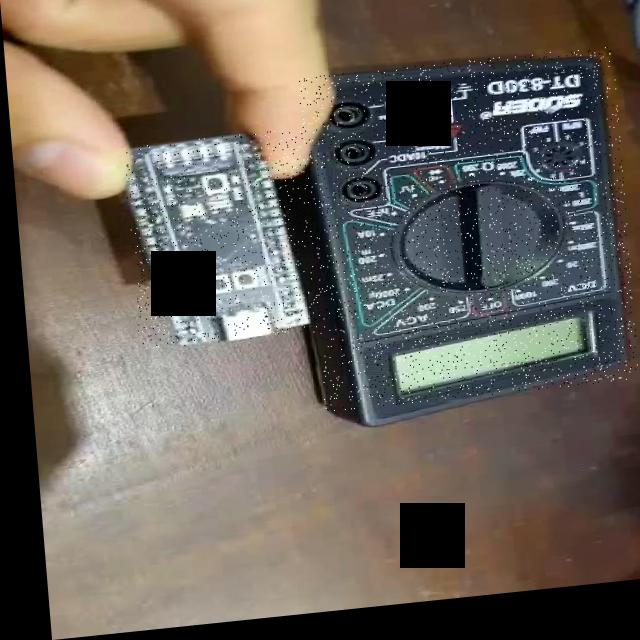multimeter: (296, 59, 632, 418)
stm32: (120, 134, 315, 353)
